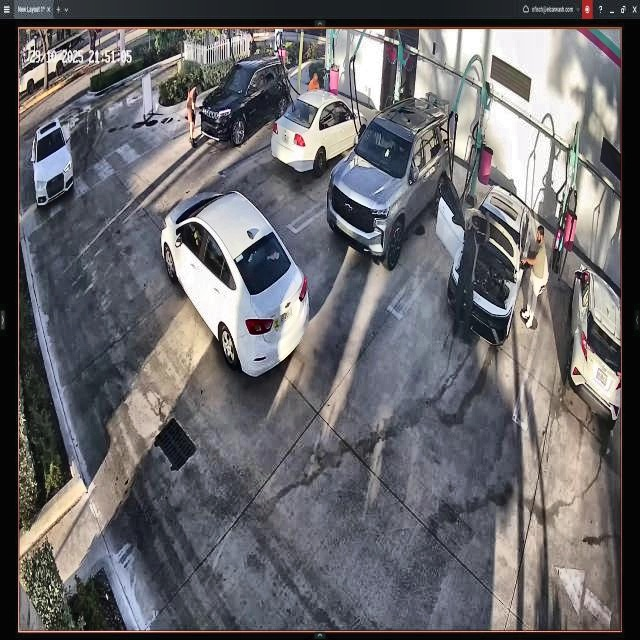Car: (162, 190, 309, 380), (330, 98, 453, 272), (442, 178, 534, 346), (274, 88, 372, 174), (201, 59, 290, 144)
